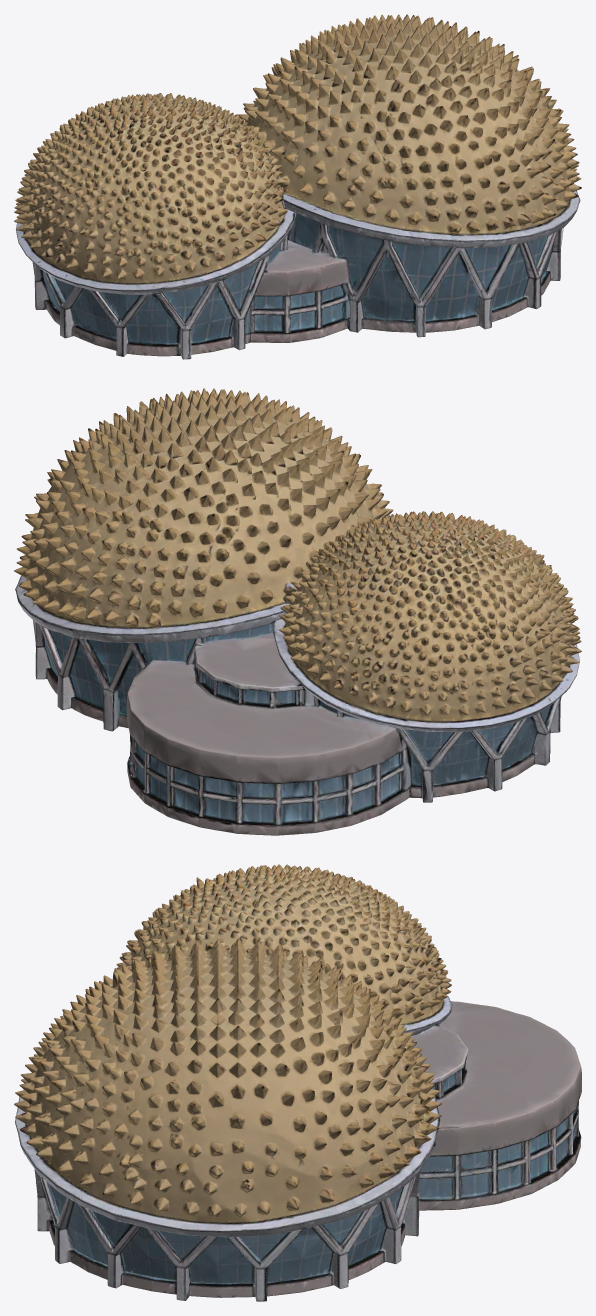
The model's file is esplanade.glb.
3 renders of one model, top to bottom at view 1: azimuth 30°, elevation 25°; view 2: azimuth 150°, elevation 25°; view 3: azimuth 270°, elevation 25°, orthographic. The views are drawn at different scales.
Parts seen in each view (by area): view 1: tripo_node_8734fcb2-3ee7-4aa6-be36-356127bfe2c1; view 2: tripo_node_8734fcb2-3ee7-4aa6-be36-356127bfe2c1; view 3: tripo_node_8734fcb2-3ee7-4aa6-be36-356127bfe2c1.
Boxes of the visible parts, box(x1,y1,x2,y2) form: tripo_node_8734fcb2-3ee7-4aa6-be36-356127bfe2c1: box(14, 14, 581, 359); tripo_node_8734fcb2-3ee7-4aa6-be36-356127bfe2c1: box(14, 388, 581, 835); tripo_node_8734fcb2-3ee7-4aa6-be36-356127bfe2c1: box(14, 864, 581, 1301).
Size of the model in its own units: 1 by 0.4556 by 0.8671.
1 material, 1 textured.
